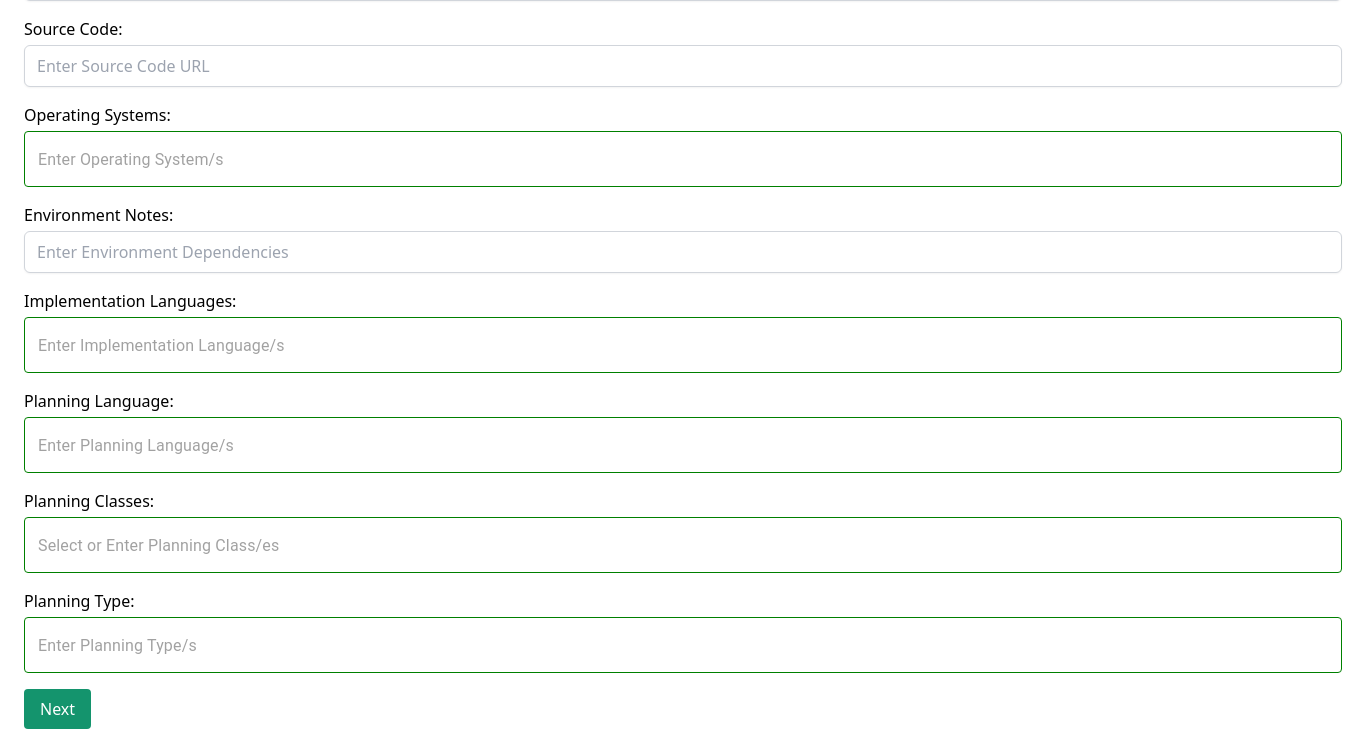
Test: AddTool Component › validates that either short name or long name is required on submit
The width and height of the screenshot is (1366, 753).
(page scrolled)
Click the button "Next" at [58, 709], box [24,689,91,729]
(page scrolled)
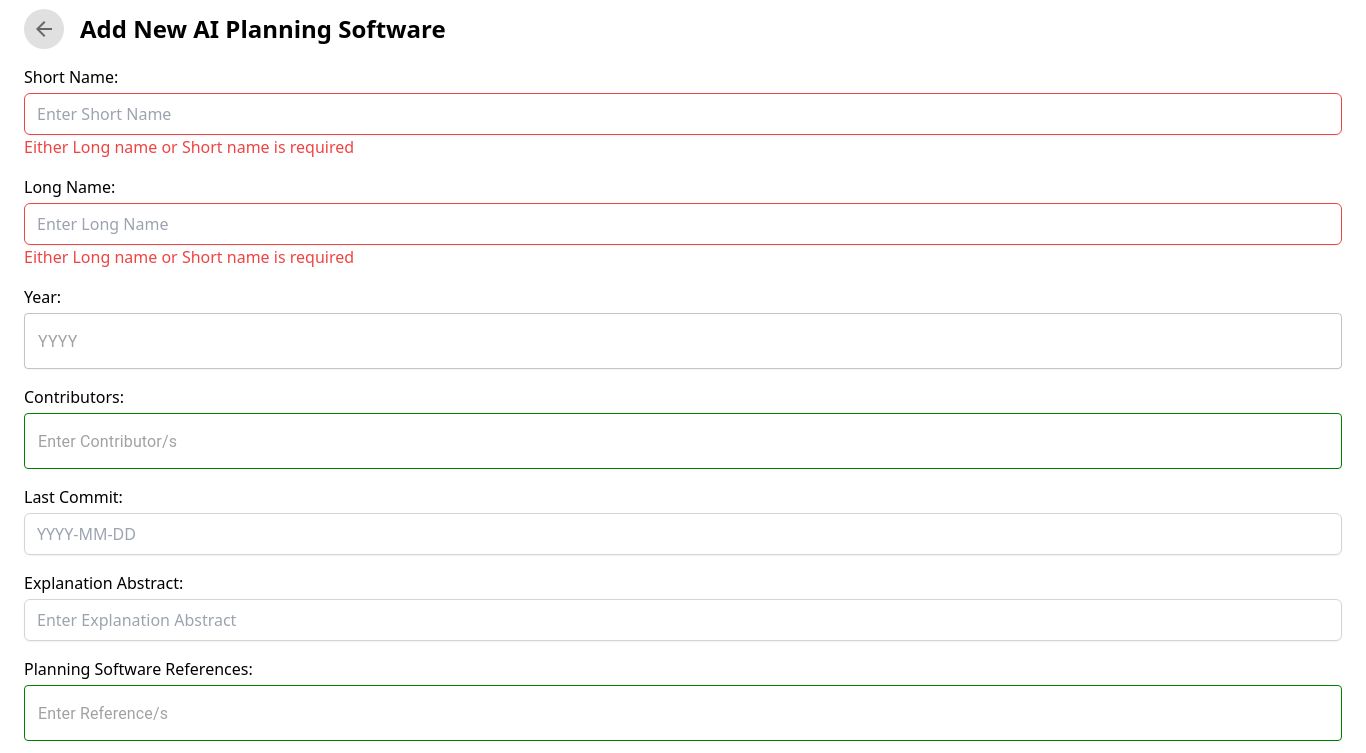
expect the text "Either Long name or Short name is required" below "Short Name:" is shown: met, box [24,136,354,158]
